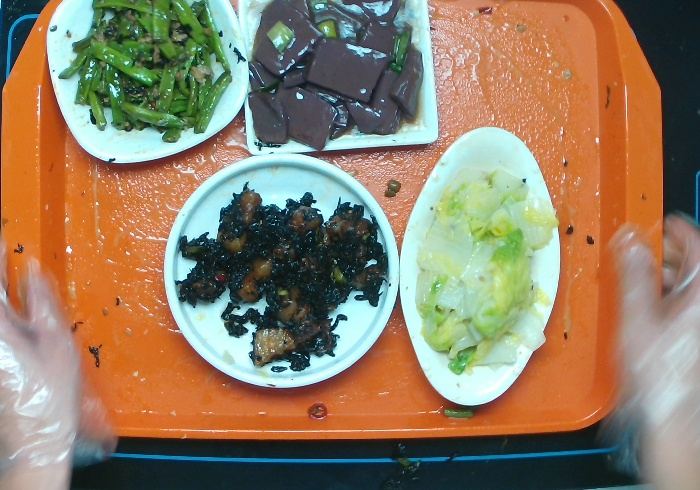HZYJPL-Si_Fang_Die: (234, 1, 440, 156)
HZYJPL-Si_Fang_Yuan_Die: (44, 1, 250, 167)
HZYJPL-Xiao_Yu_Die: (397, 125, 562, 411)
HZYJPL-Xiao_Yuan_Die: (162, 148, 403, 389)
